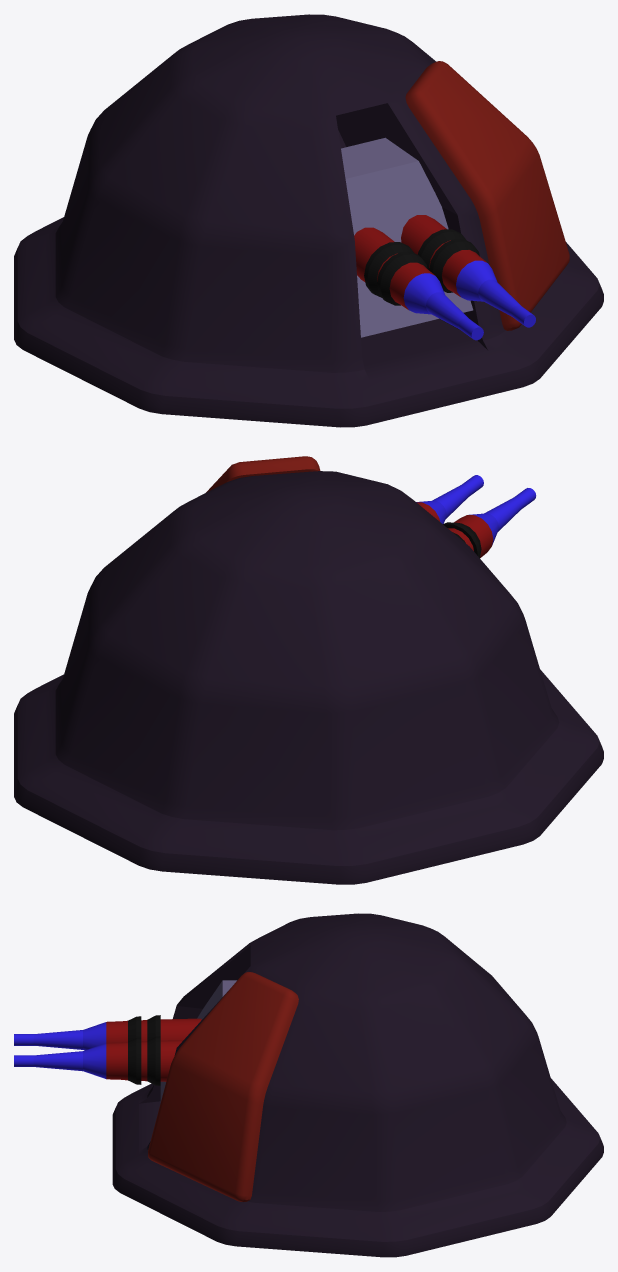
Rendered from Double_Turret.fbx.
3 renders of one model, top to bottom at view 1: azimuth 30°, elevation 25°; view 2: azimuth 150°, elevation 25°; view 3: azimuth 270°, elevation 25°, orthographic. The views are drawn at different scales.
Visible parts, largest first — view 1: Sphere, Laser_02.006, Sphere.001; view 2: Sphere, Laser_02.006, Sphere.001; view 3: Sphere, Sphere.001, Laser_02.006.
Part boxes in pixels (left/top/right/bottom): Sphere: left=14, top=14, right=603, bottom=427; Laser_02.006: left=341, top=137, right=535, bottom=340; Sphere.001: left=405, top=61, right=569, bottom=330; Sphere: left=14, top=471, right=603, bottom=884; Laser_02.006: left=416, top=475, right=536, bottom=557; Sphere.001: left=206, top=456, right=320, bottom=492; Sphere: left=112, top=913, right=603, bottom=1257; Sphere.001: left=148, top=972, right=298, bottom=1201; Laser_02.006: left=14, top=980, right=236, bottom=1102.
Size of the model in its own units: 231 by 112 by 274.
